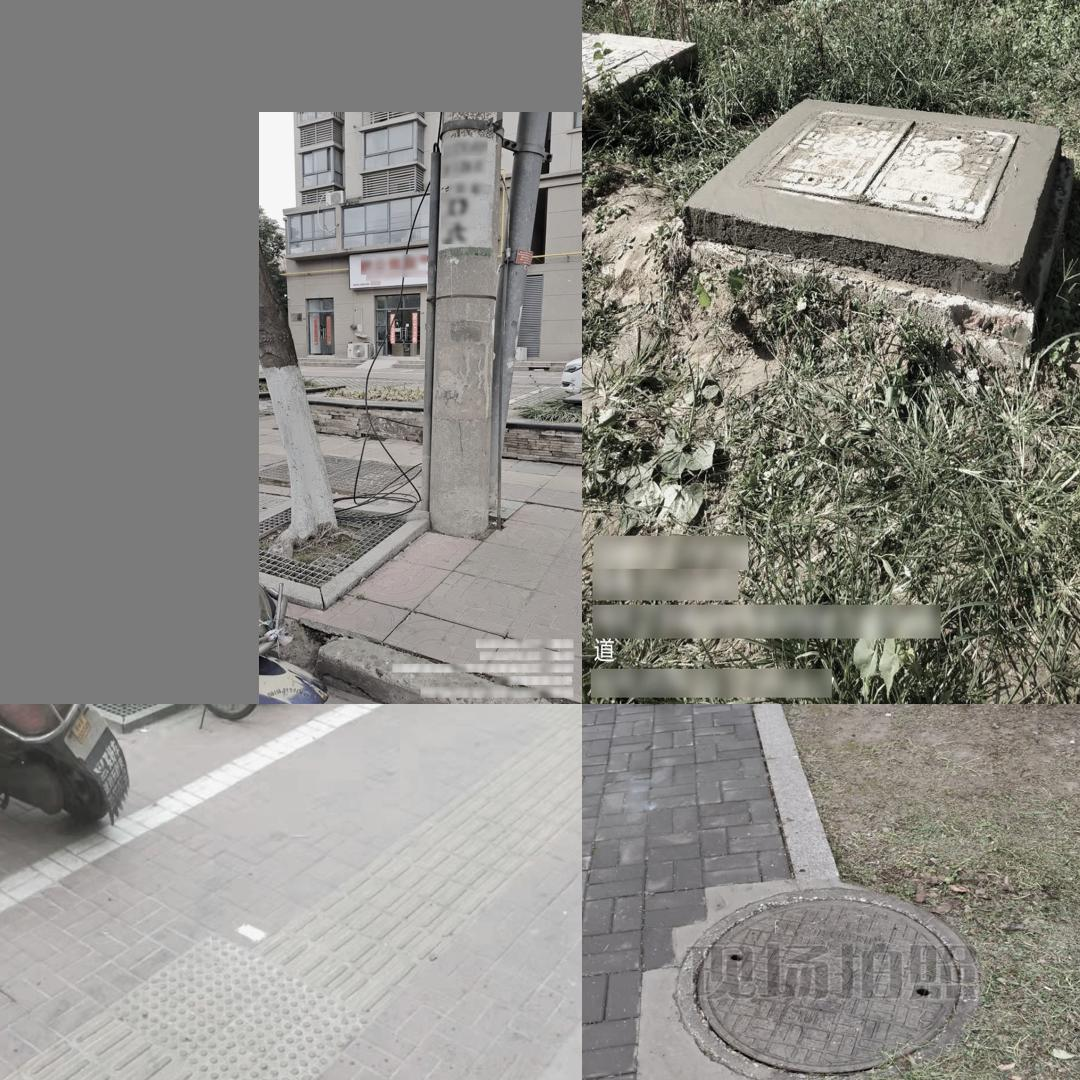good: (675, 889, 976, 1080), (746, 87, 1023, 232), (259, 453, 421, 496)
